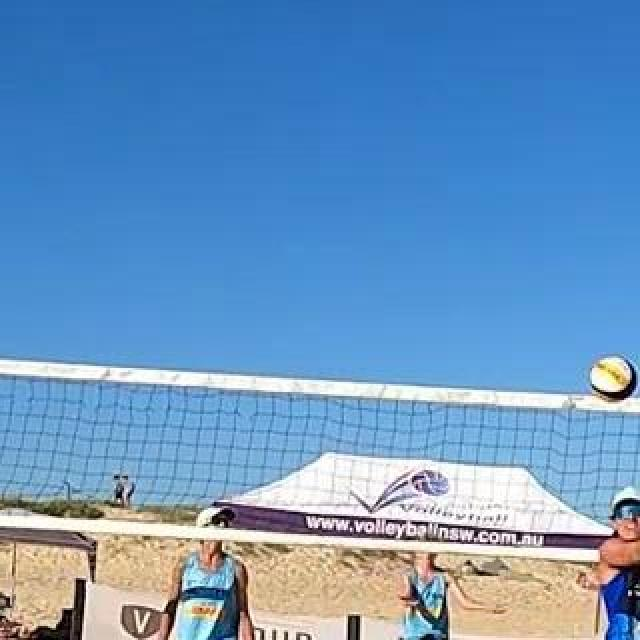volleyball: (591, 355, 639, 401)
